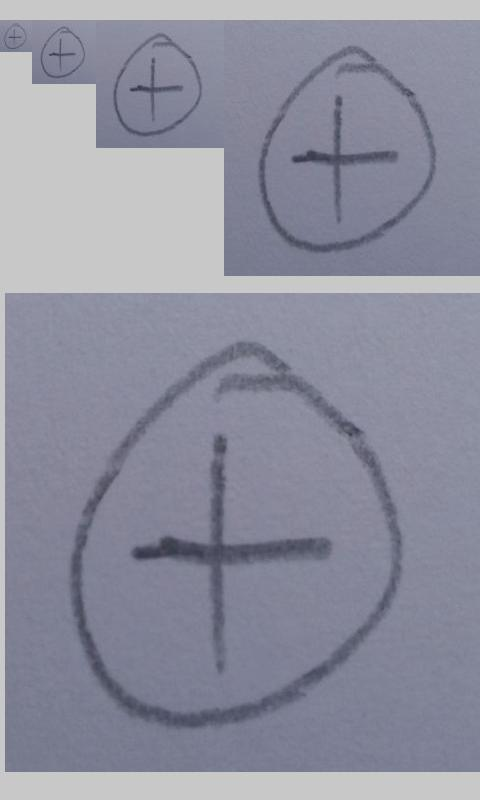button: (69, 340, 401, 728), (258, 45, 438, 254), (113, 31, 203, 137), (40, 26, 85, 78), (3, 23, 27, 49)
